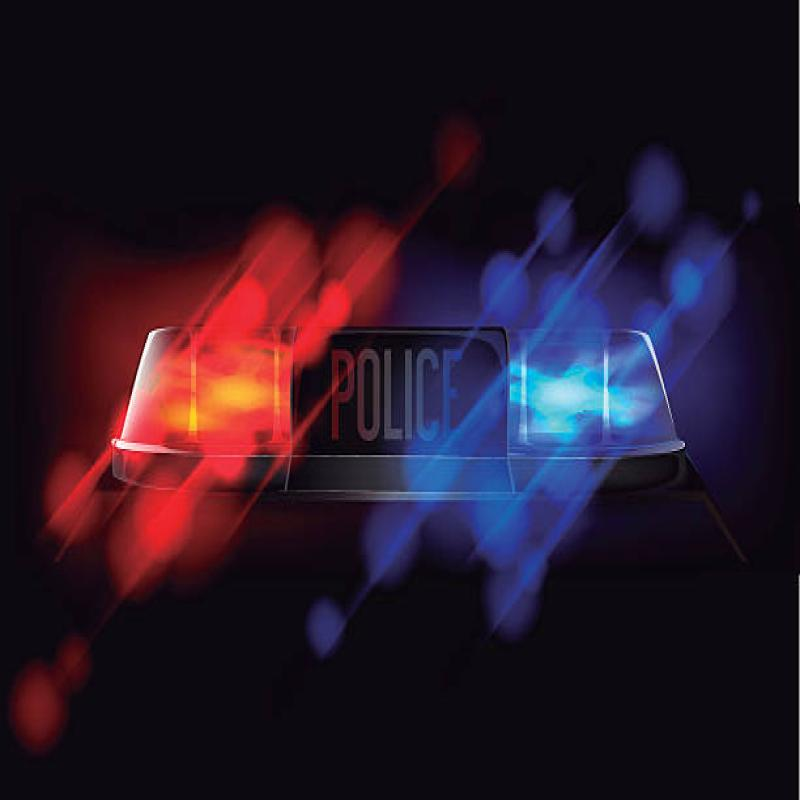AmbulanceSiren: (127, 256, 694, 494)
